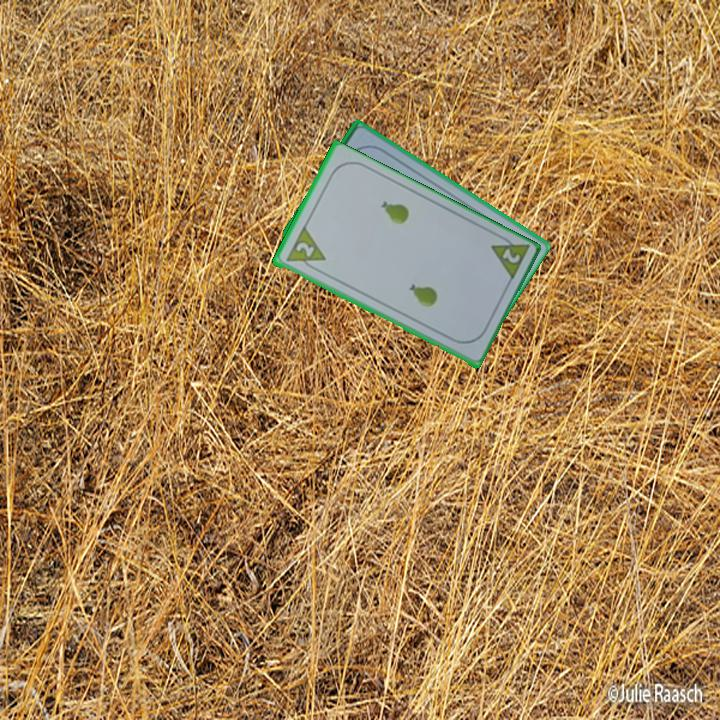2p: (486, 230, 532, 285), (292, 238, 317, 260)
